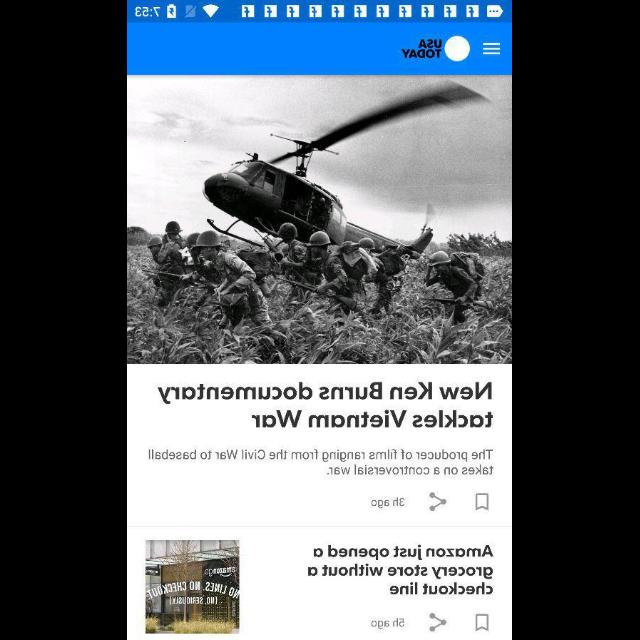icon: (429, 612, 447, 632), (429, 492, 447, 512), (475, 492, 489, 512), (475, 614, 489, 632), (483, 44, 501, 56)
image: (128, 76, 512, 364), (146, 540, 240, 634), (402, 36, 471, 62)
text: (157, 382, 493, 428), (148, 448, 494, 476), (308, 544, 494, 596), (371, 618, 405, 630), (371, 497, 405, 509)
toolbar: (128, 24, 512, 76)
uppertaskbar: (128, 1, 512, 23)
